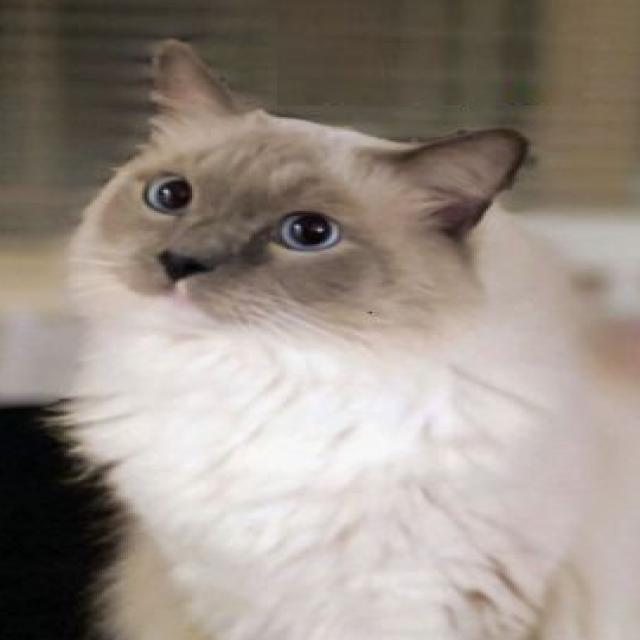Ragdoll: (40, 28, 640, 640)
